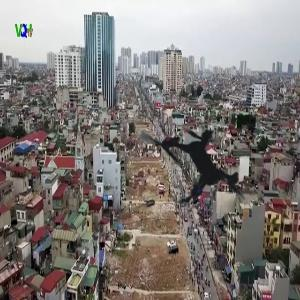drone: (107, 74, 288, 255)
